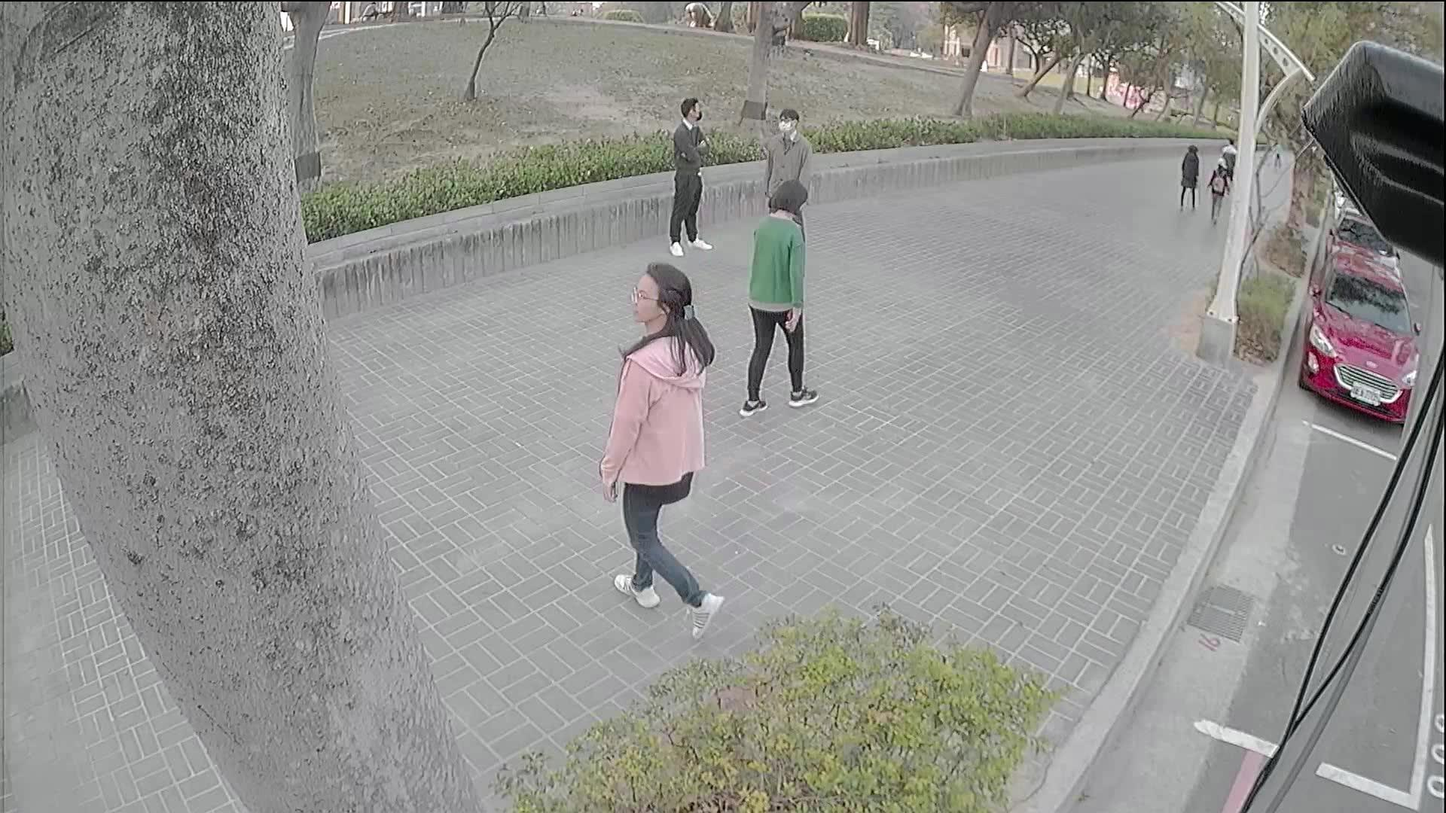person: (596, 260, 723, 635), (743, 183, 816, 411), (669, 97, 710, 254), (767, 110, 813, 181), (1176, 145, 1199, 204), (1209, 158, 1226, 218), (1213, 136, 1231, 163)
